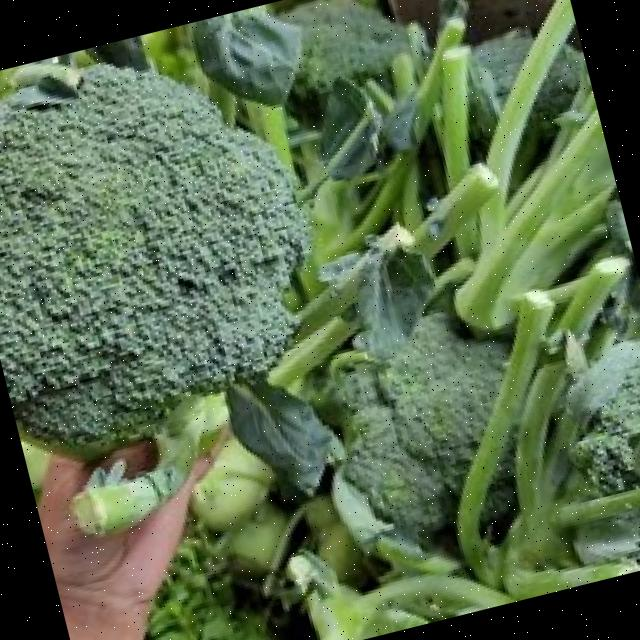Broccoli: (0, 65, 307, 449), (0, 65, 307, 446), (339, 311, 507, 536), (282, 0, 407, 91), (574, 361, 640, 493), (574, 362, 640, 494)
